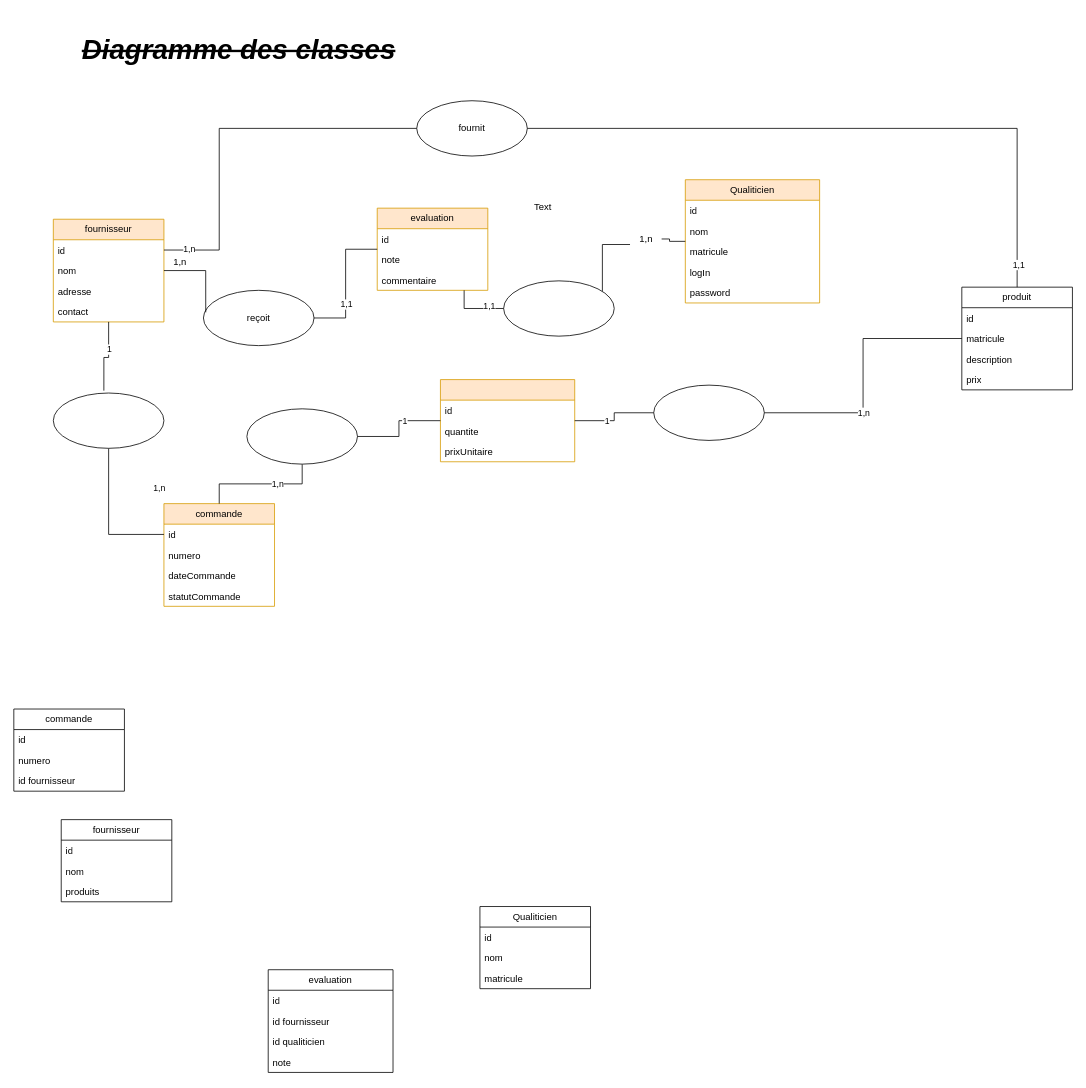
The diagram is 1086 pixels wide and 1088 high, and some of its shapes have lost their labels. Each missing label, with the box of its shape:
contient: (653, 384, 764, 440)
DetailCommande: (440, 379, 575, 462)
est constituee: (246, 408, 357, 464)
fait: (503, 280, 614, 336)
fournir: (53, 392, 164, 448)
